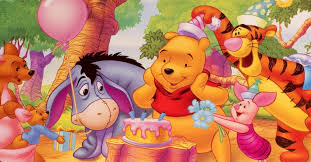Winnie: (149, 29, 213, 108)
